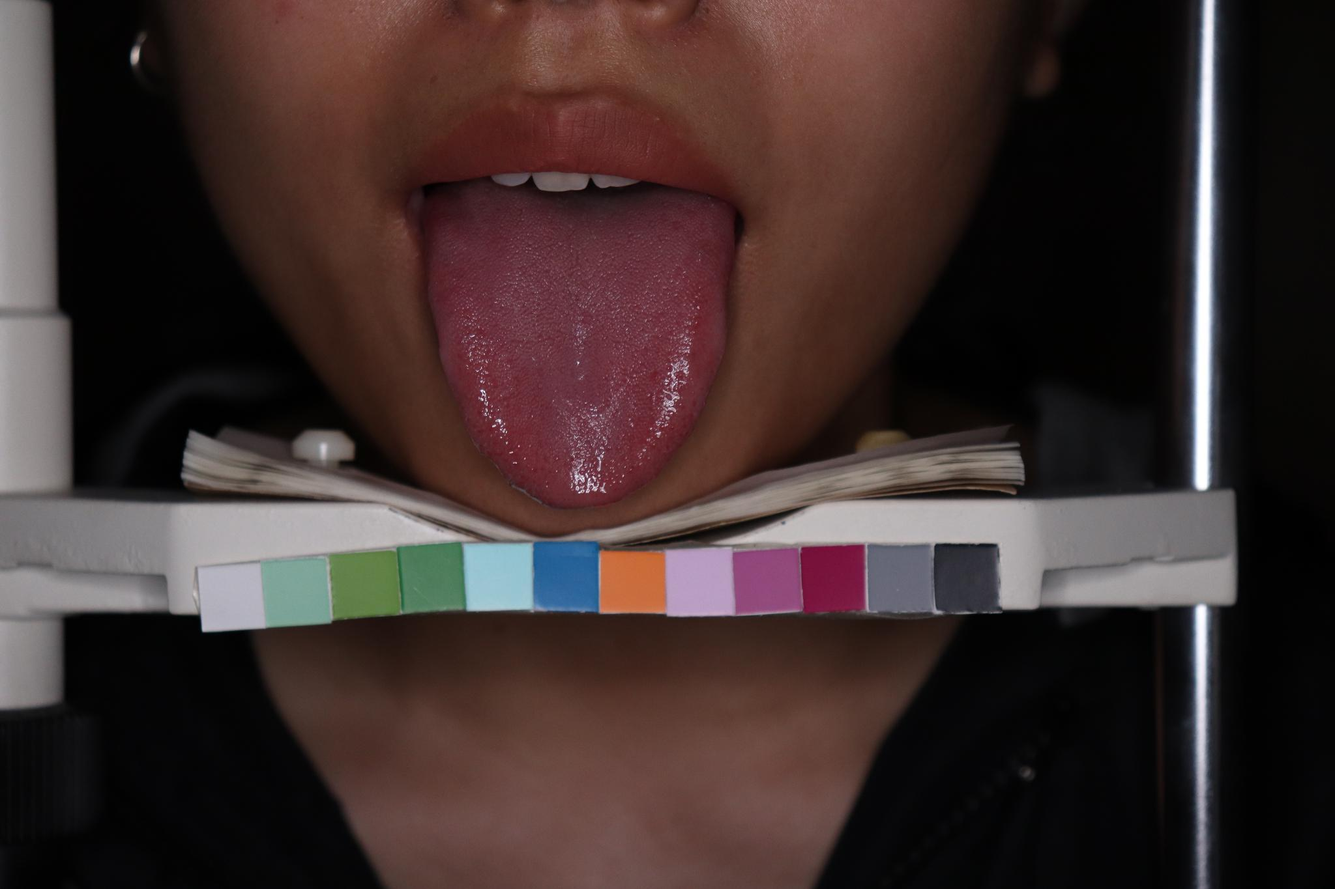baitaishe: (422, 171, 735, 507)
hongshe: (422, 171, 735, 507)
